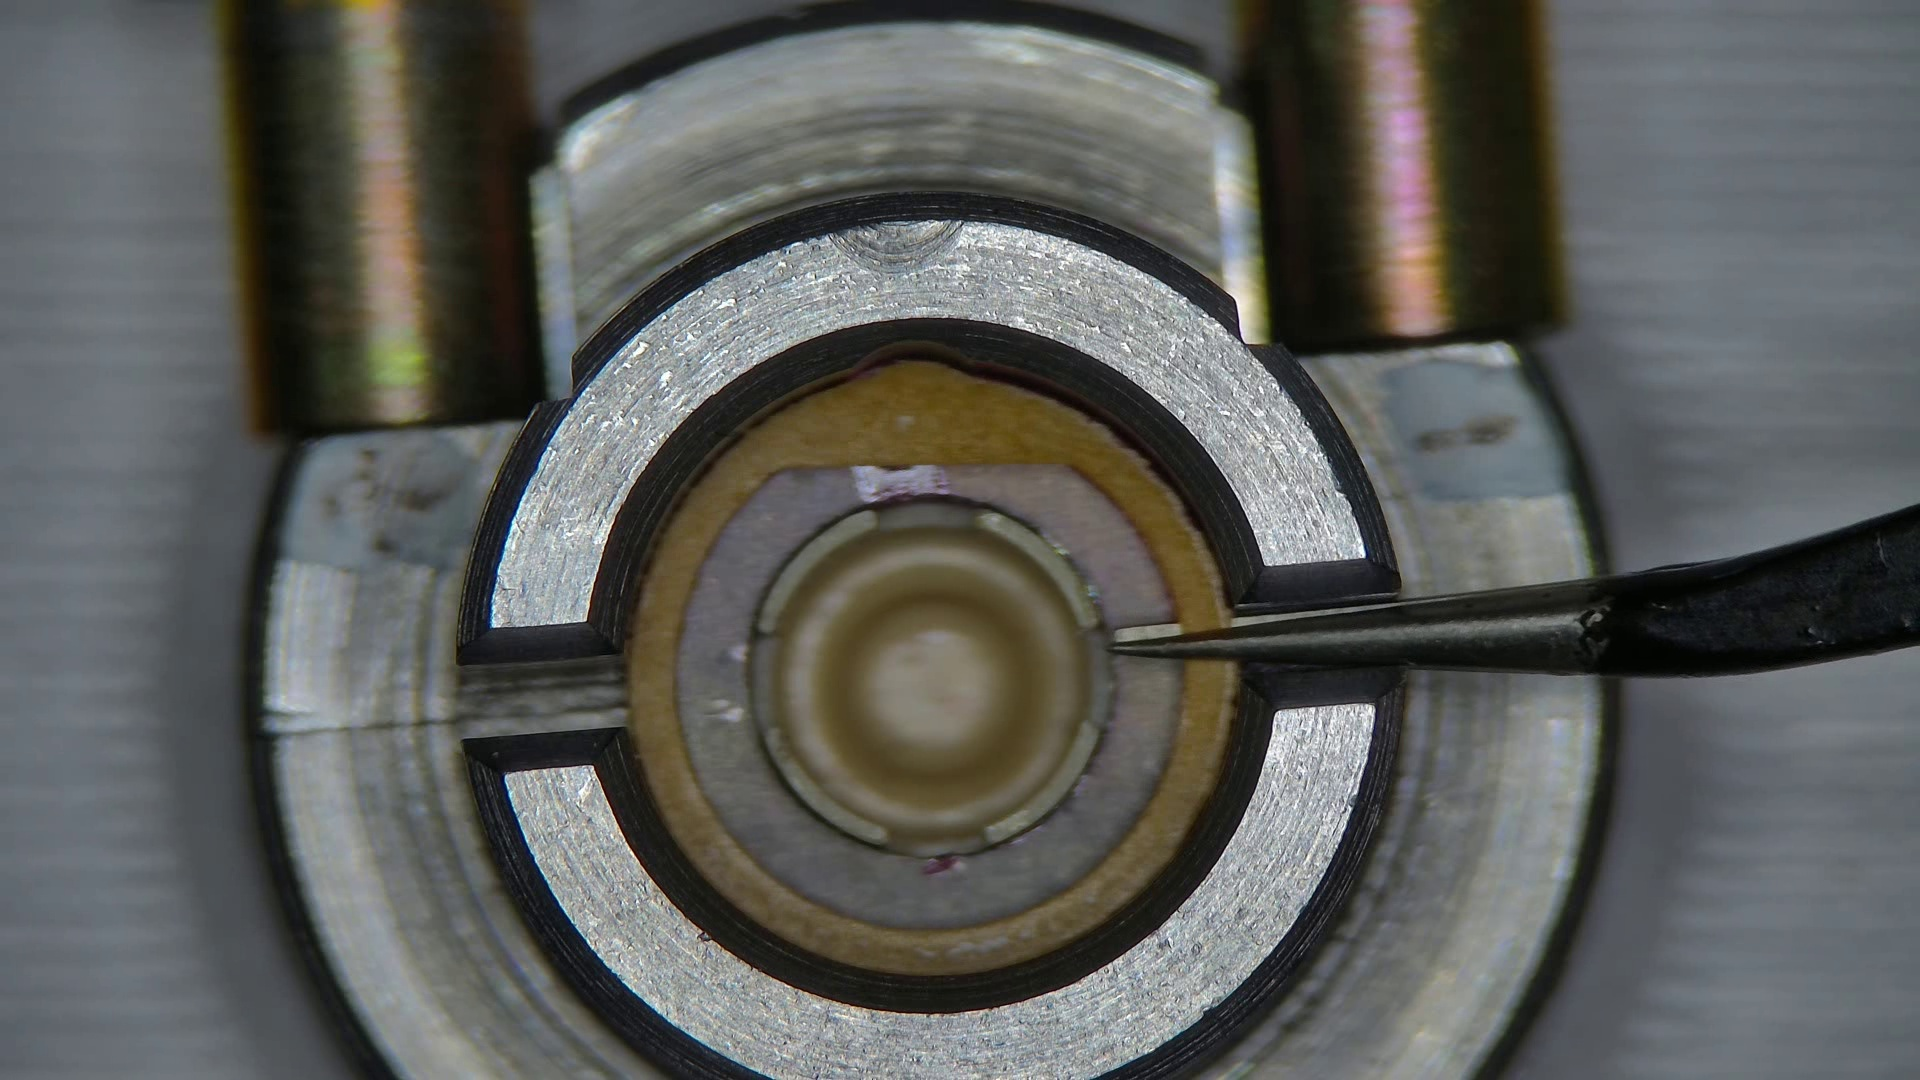YellowOring: (673, 461, 1175, 929)
redOring: (628, 362, 1232, 972)
